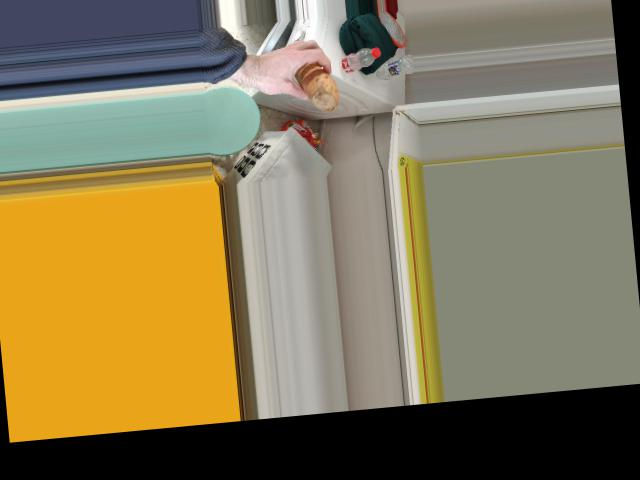sweet_potato: (293, 58, 341, 105)
